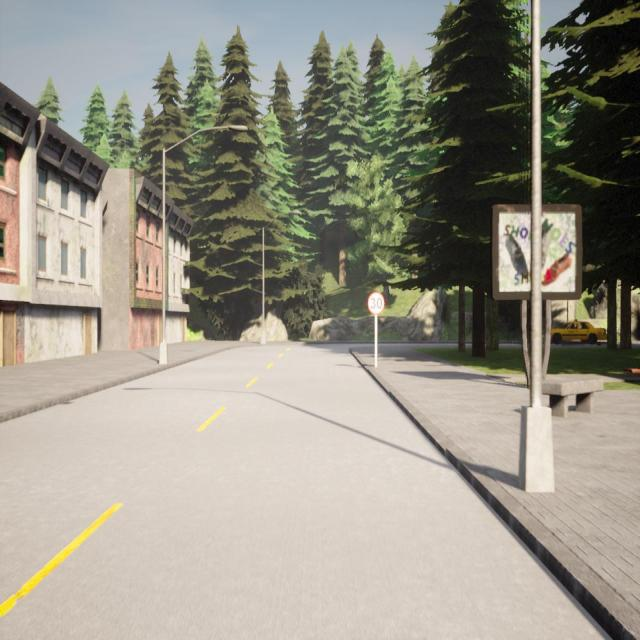Traffic_Signs: (368, 290, 385, 314)
Vehicle: (551, 320, 607, 343)
